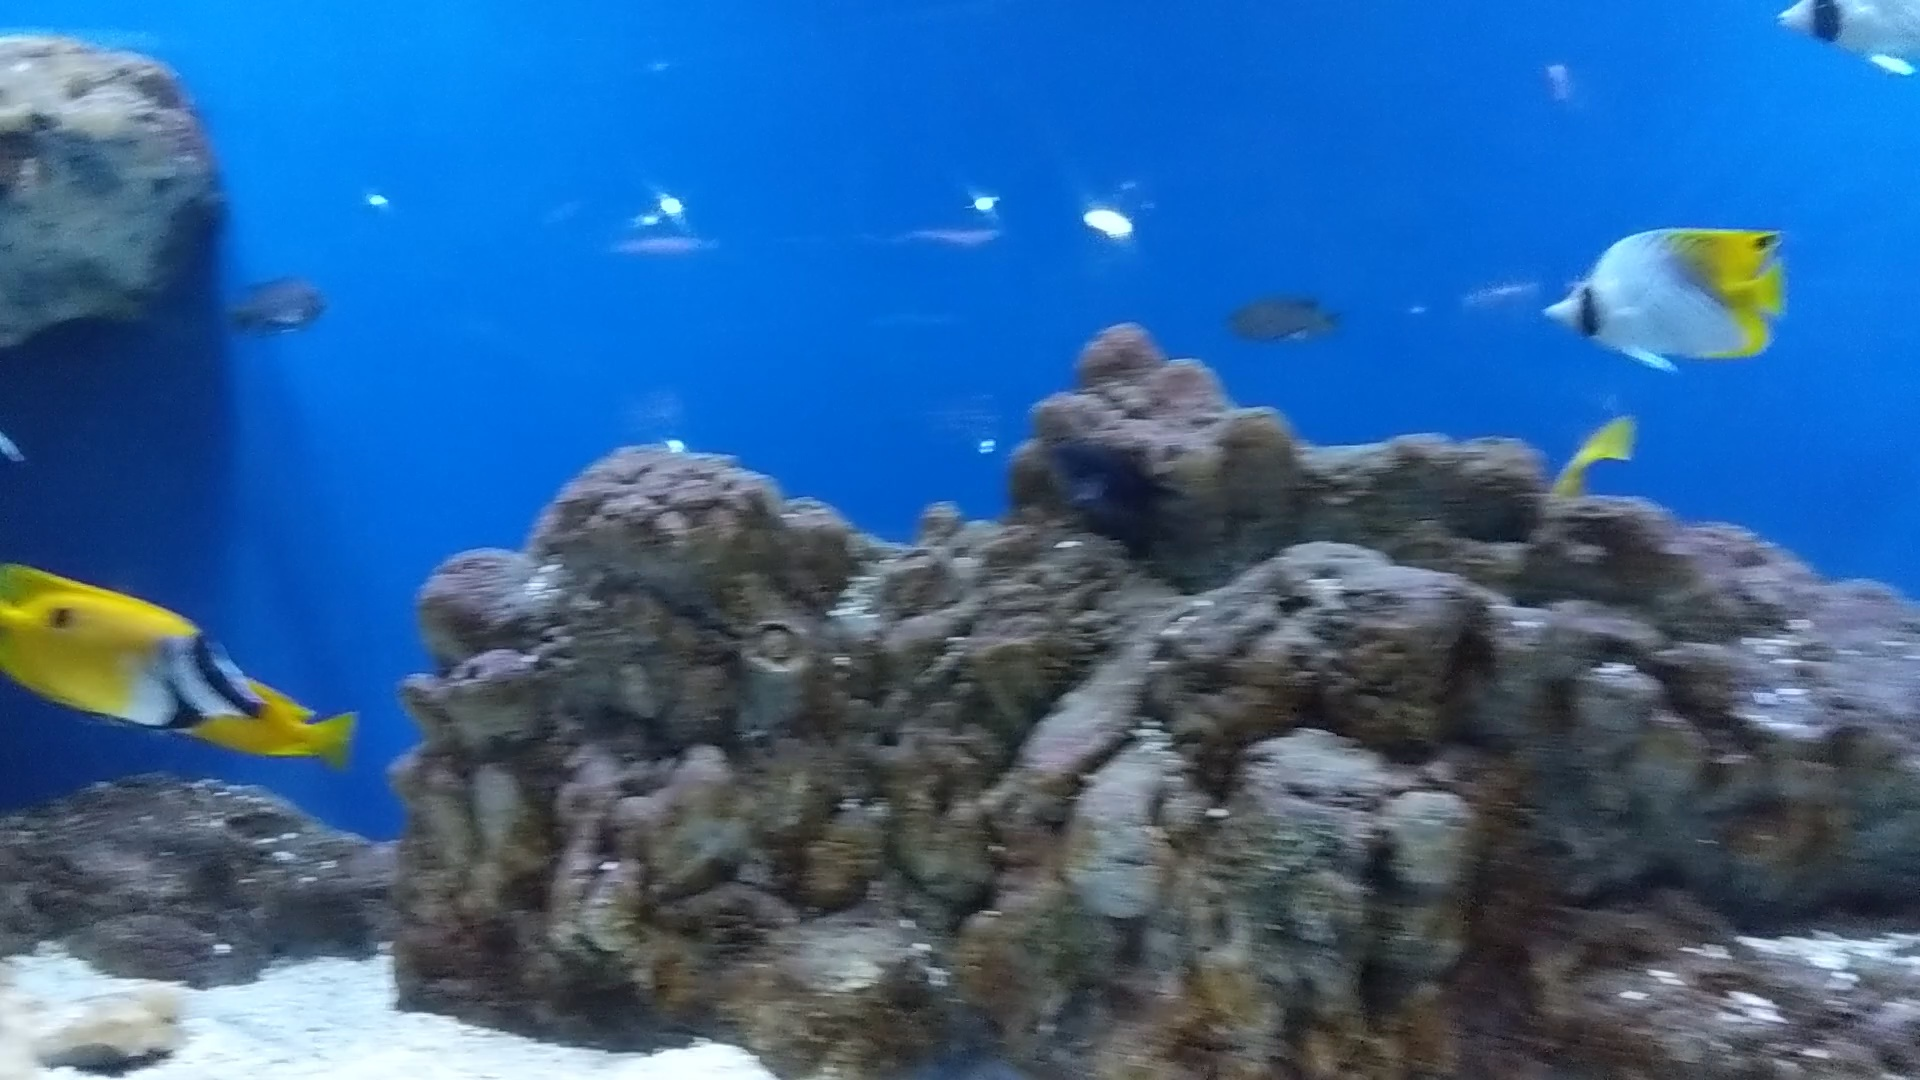butterflyfish: (1551, 220, 1791, 367)
rabbitfish: (7, 556, 255, 735), (185, 665, 351, 785)
